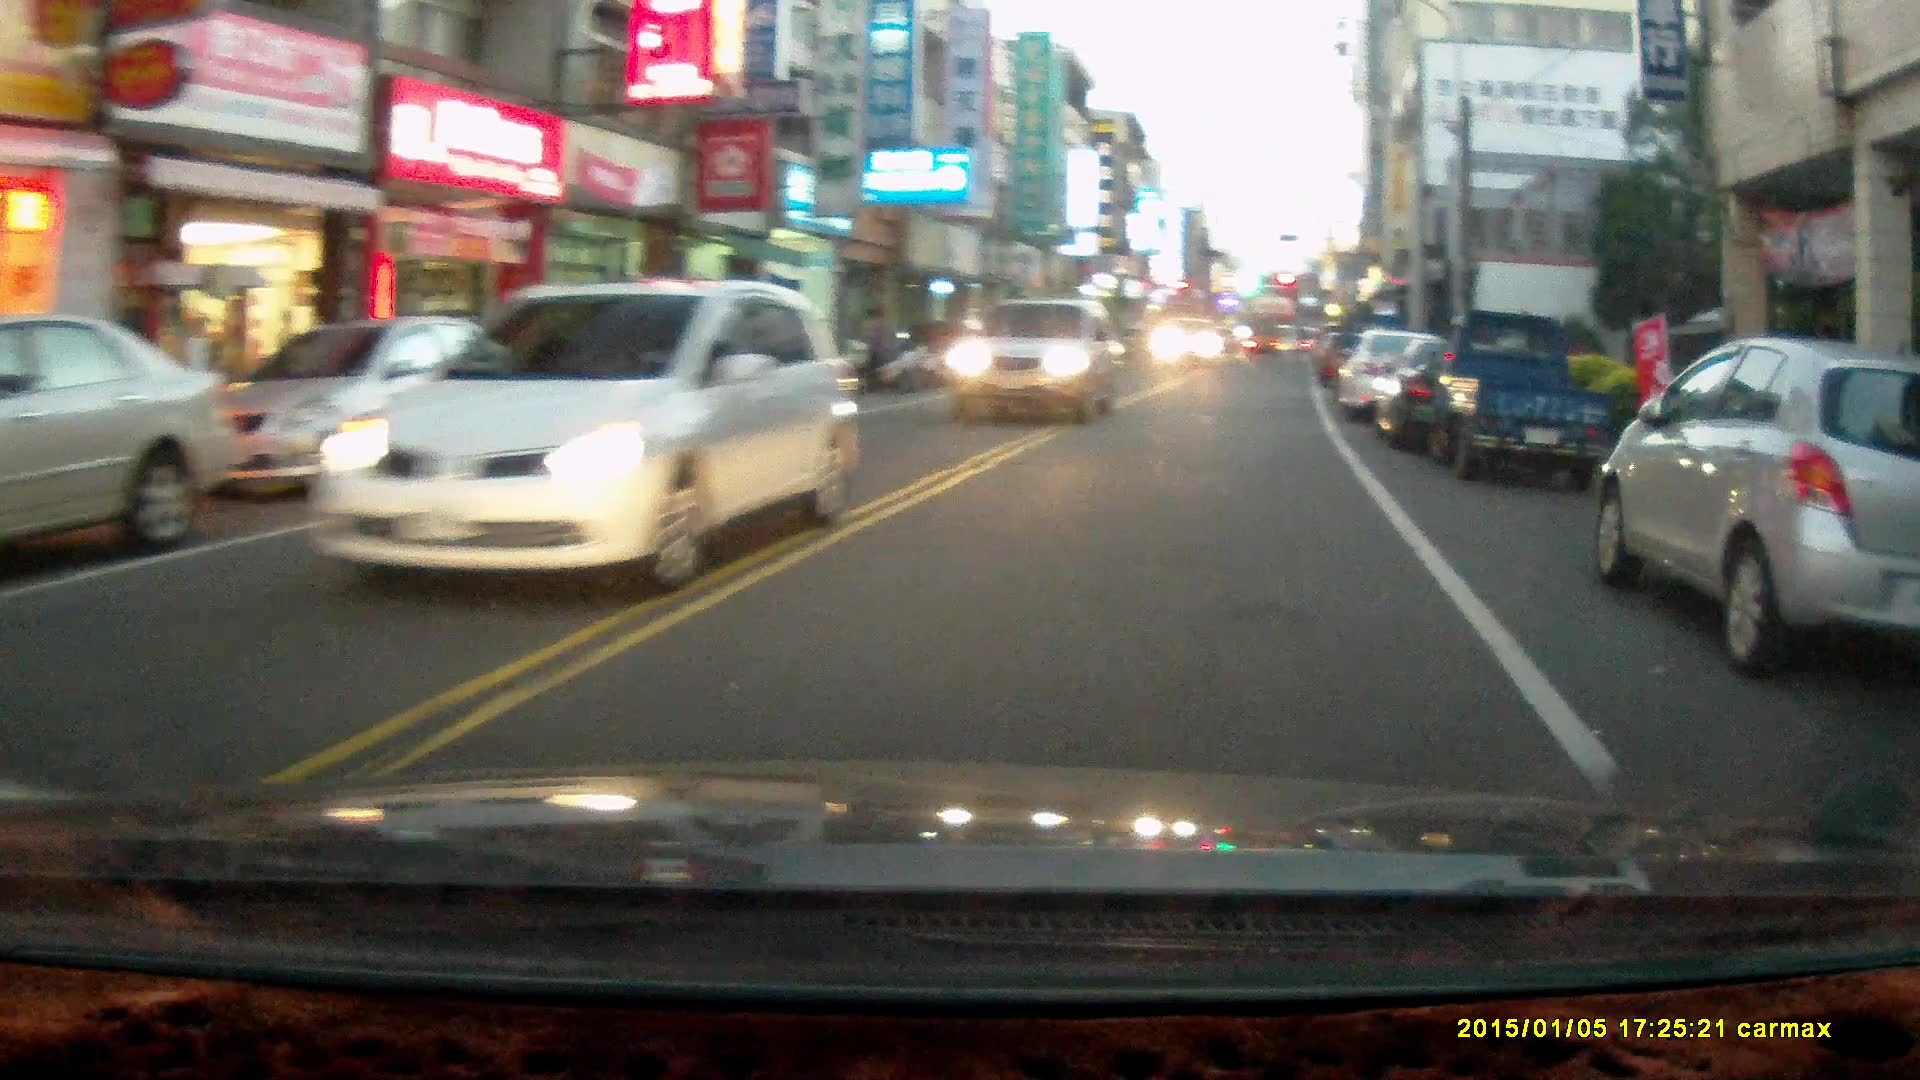vehicle: (306, 274, 858, 593), (1601, 330, 1920, 680), (169, 311, 539, 500), (1, 309, 245, 580), (1431, 306, 1626, 483), (943, 291, 1131, 421), (1335, 324, 1495, 429), (1155, 313, 1232, 367)
